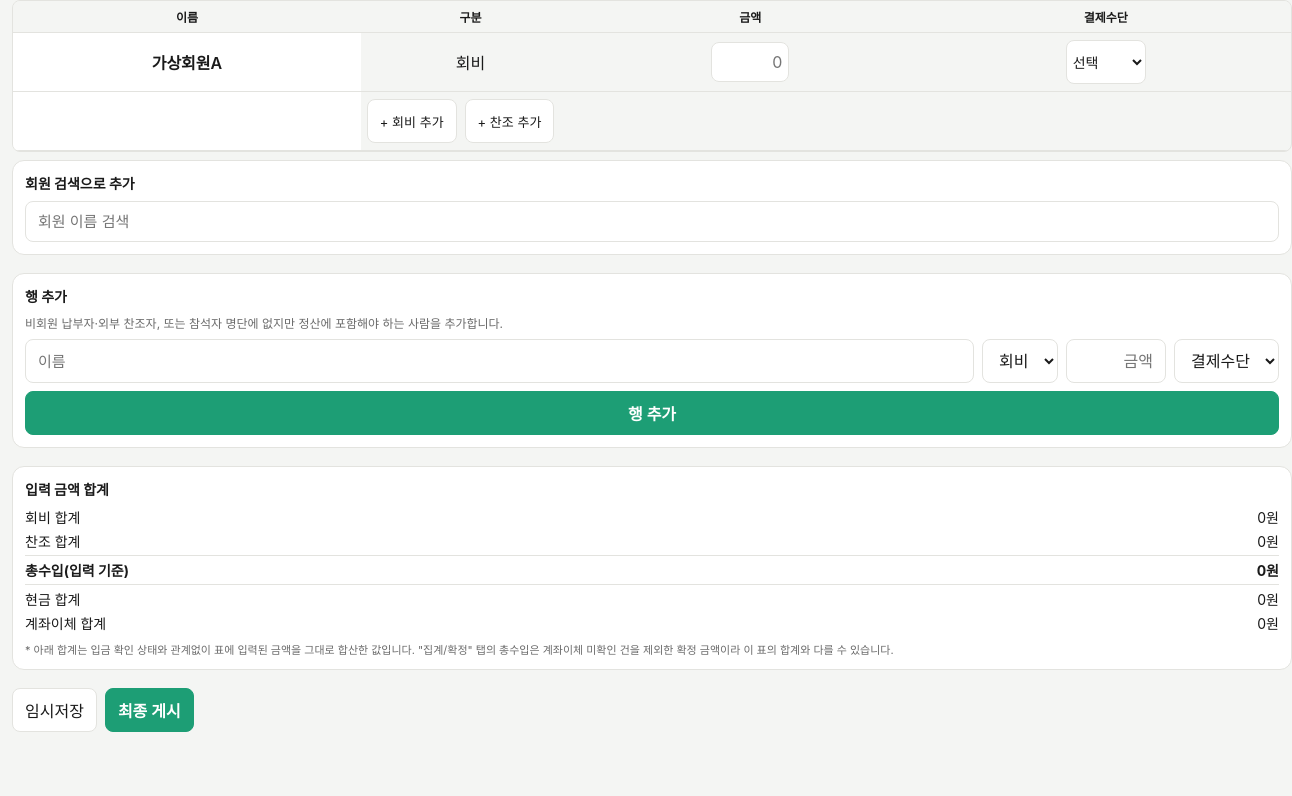
모바일 표 레이아웃 — 열 중앙 정렬 및 스크롤 보호 › 찬조 행도 회비 행과 같은 열 정렬(구분·금액·결제수단 중앙 정렬)을 갖는다
Step 1. Click the button "+ 찬조 추가" → [510, 121], box [465,99,554,143]
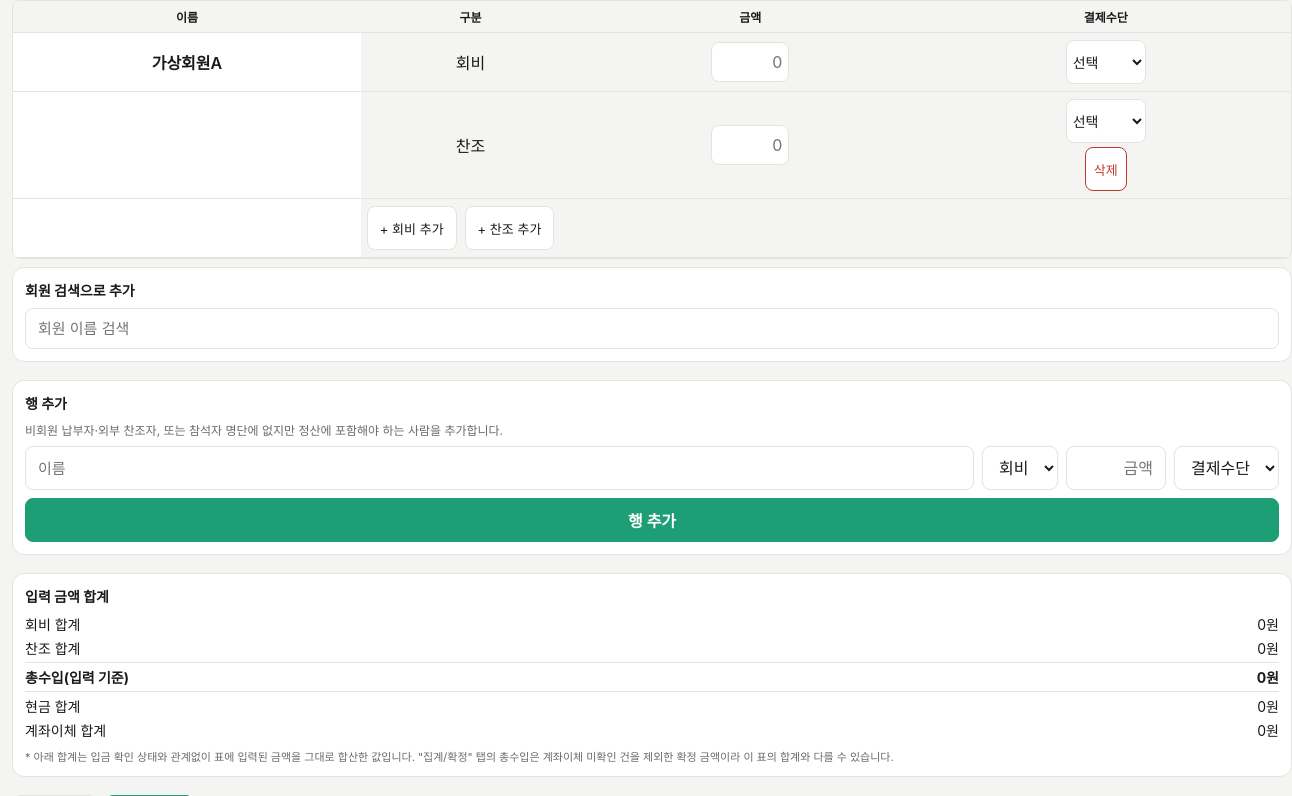
Check: the cell "찬조" is shown, box [361,92,580,198]
